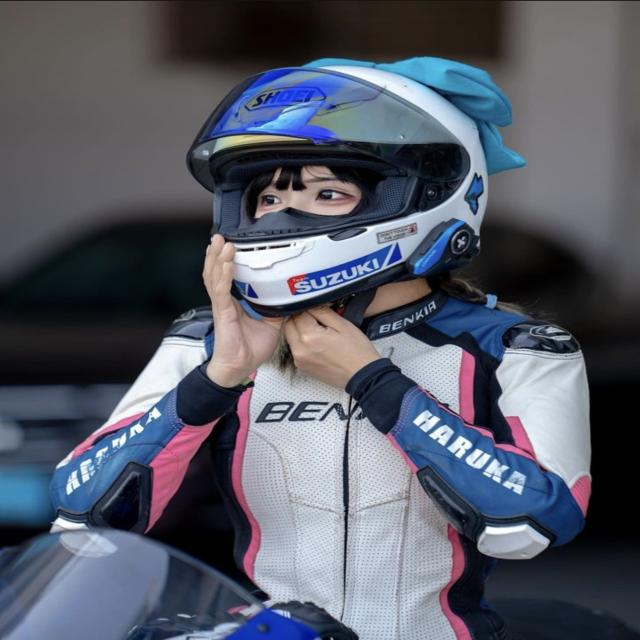helmet: (176, 48, 533, 322)
